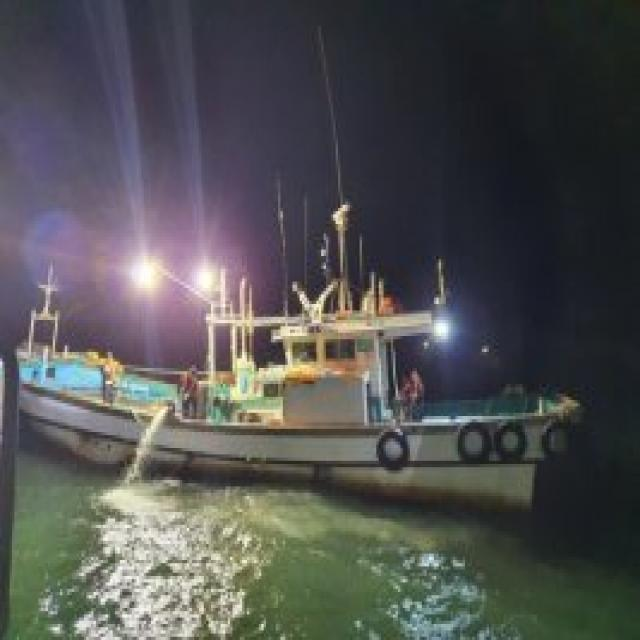Ship: (1, 190, 598, 529)
